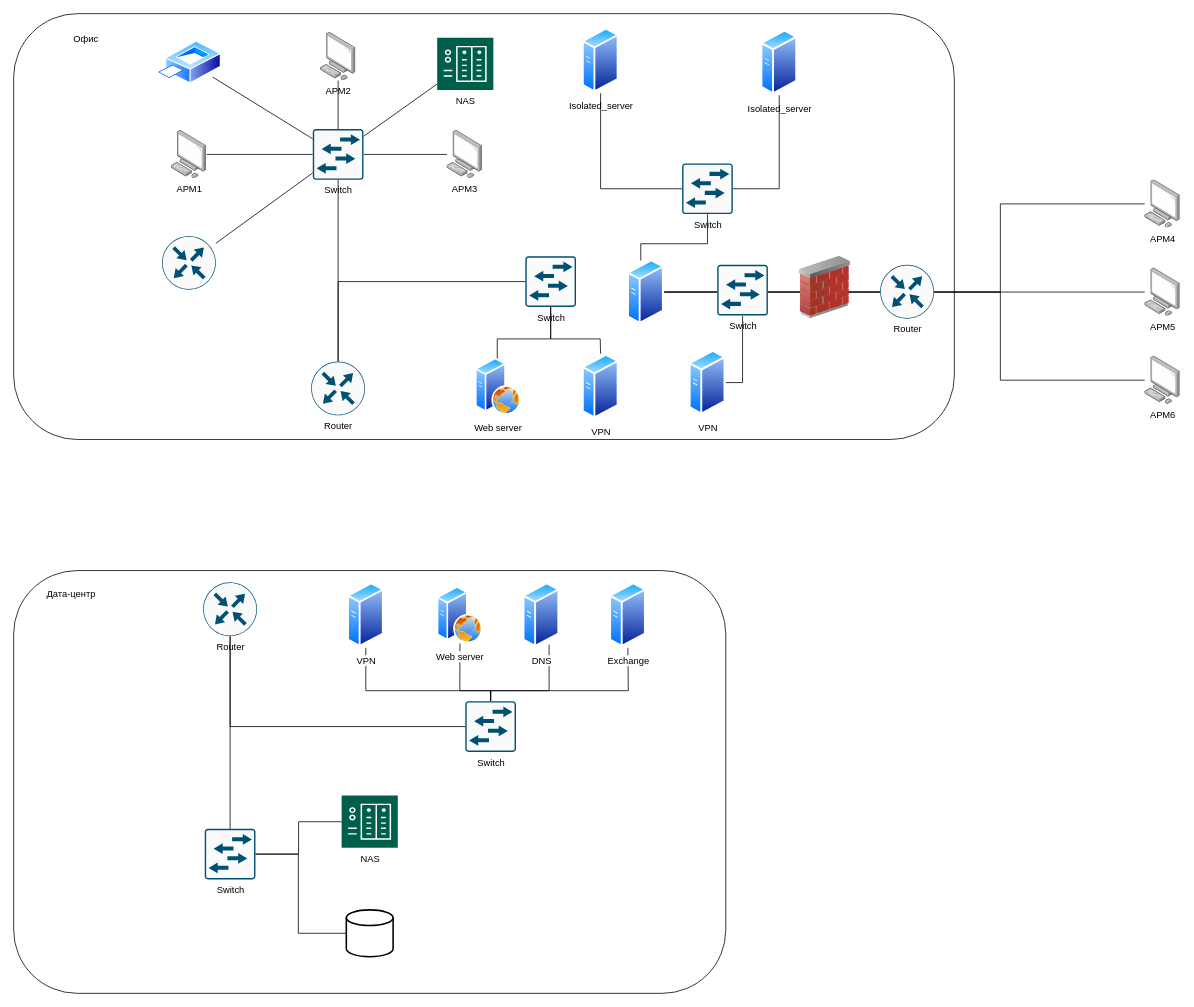
Image size: 1194x1007. Some labels were removed from this diagram. The shapes that lost their labels are listed below. From the top down, each one's centre as x and y in pixels, then its label:
At pixel 188 62: "МФУ".
At pixel 188 262: "Access Point".
At pixel 645 291: "Terminal server".
At pixel 824 287: "Firewall".
At pixel 369 933: "DB".
